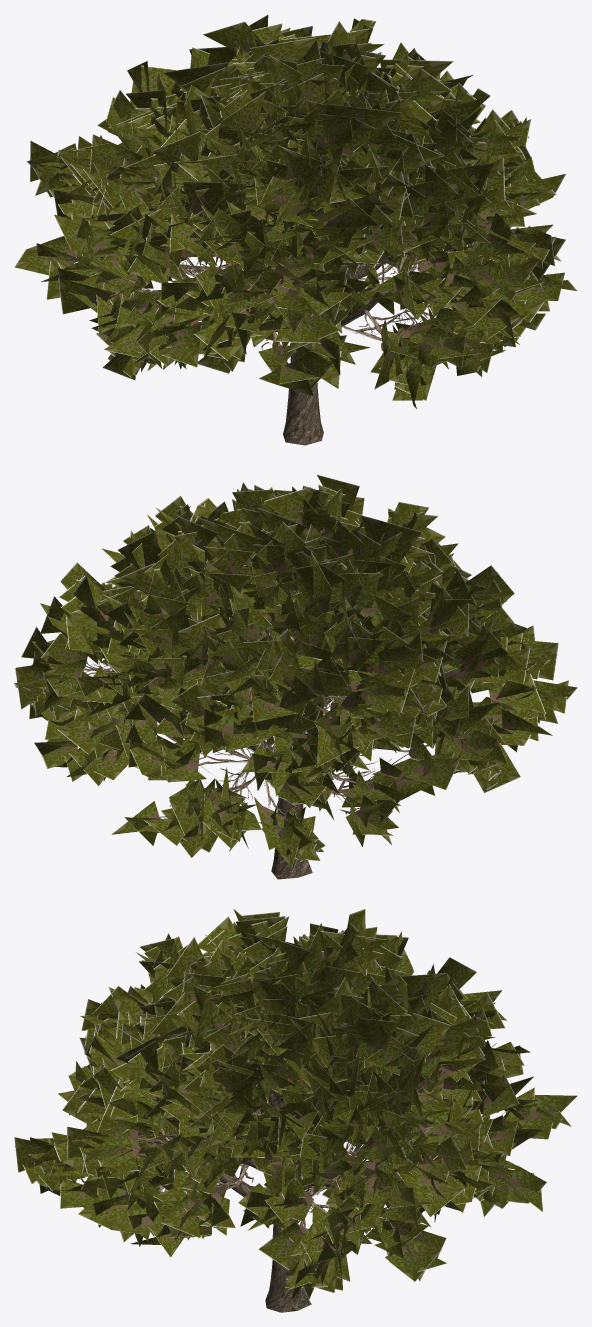
Rendered from tree_01.glb.
3 views of the same model, one above another, from view 1: azimuth 30°, elevation 25°; view 2: azimuth 150°, elevation 25°; view 3: azimuth 270°, elevation 25° (orthographic). The views are drawn at different scales.
Visible parts, largest first — view 1: TREE_01_mesh_1, TREE_01_mesh_1.001, TREE_01_Object_4; view 2: TREE_01_mesh_1, TREE_01_mesh_1.001, TREE_01_Object_4; view 3: TREE_01_mesh_1, TREE_01_Object_4, TREE_01_mesh_1.001.
Part boxes in pixels (x1=…): TREE_01_mesh_1: x1=14, y1=15, x2=577, y2=408; TREE_01_mesh_1.001: x1=53, y1=96, x2=547, y2=372; TREE_01_Object_4: x1=255, y1=220, x2=437, y2=445; TREE_01_mesh_1: x1=14, y1=474, x2=577, y2=869; TREE_01_mesh_1.001: x1=69, y1=560, x2=501, y2=832; TREE_01_Object_4: x1=246, y1=582, x2=460, y2=879; TREE_01_mesh_1: x1=14, y1=908, x2=577, y2=1300; TREE_01_Object_4: x1=146, y1=1082, x2=369, y2=1312; TREE_01_mesh_1.001: x1=78, y1=959, x2=515, y2=1269.
Bounding box in the file's own units: 84.5 × 64.83 × 87.62.
Materials: 3 (3 with a texture image).
